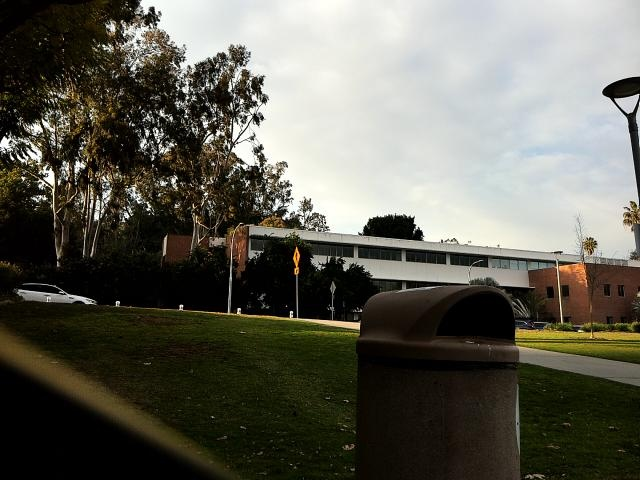trashcan: (336, 269, 556, 480)
